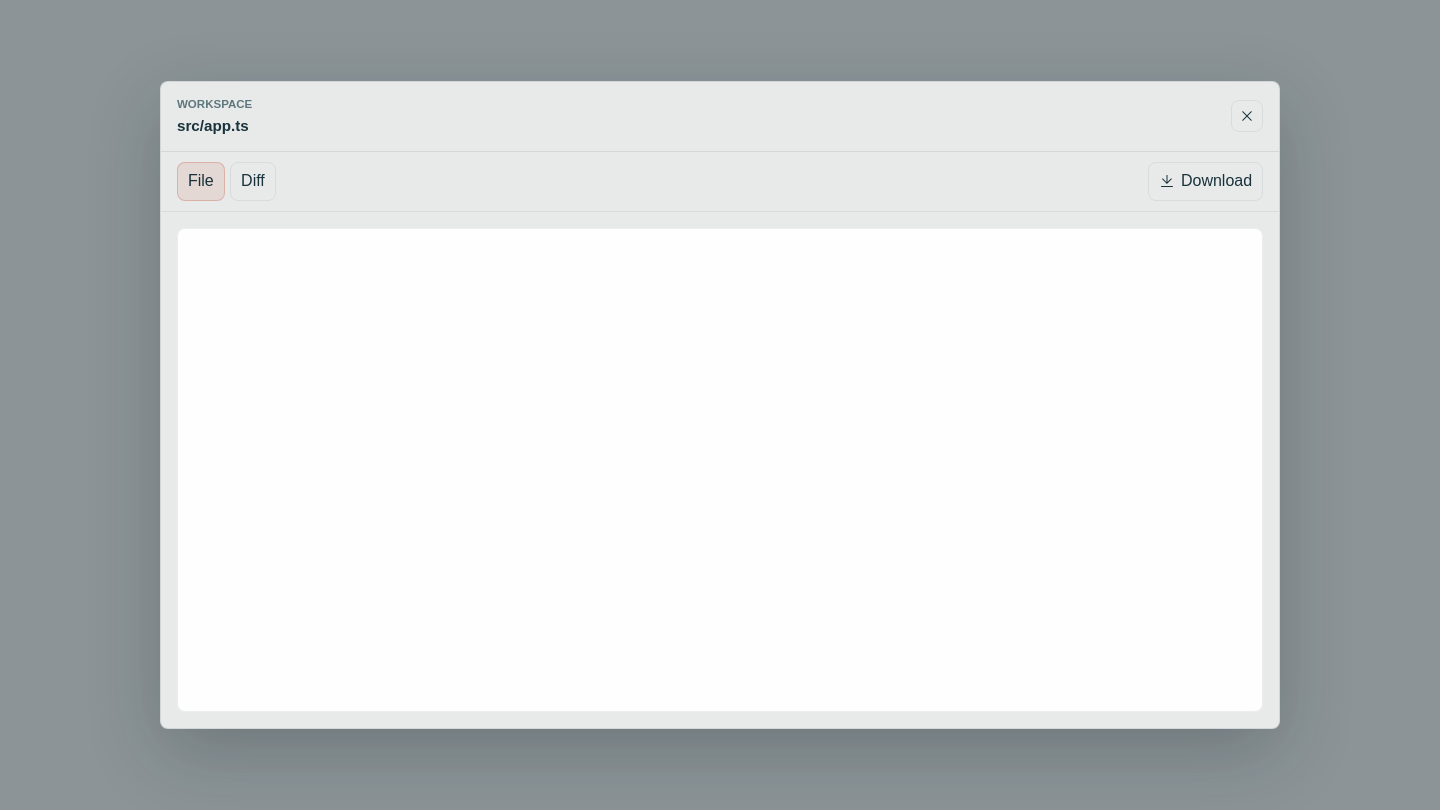
Scenario: WorkspaceFileDialog › disposes the mounted file editor when a binary diff replaces it
Click the button "Diff" at (253, 181), box [230, 162, 276, 200]
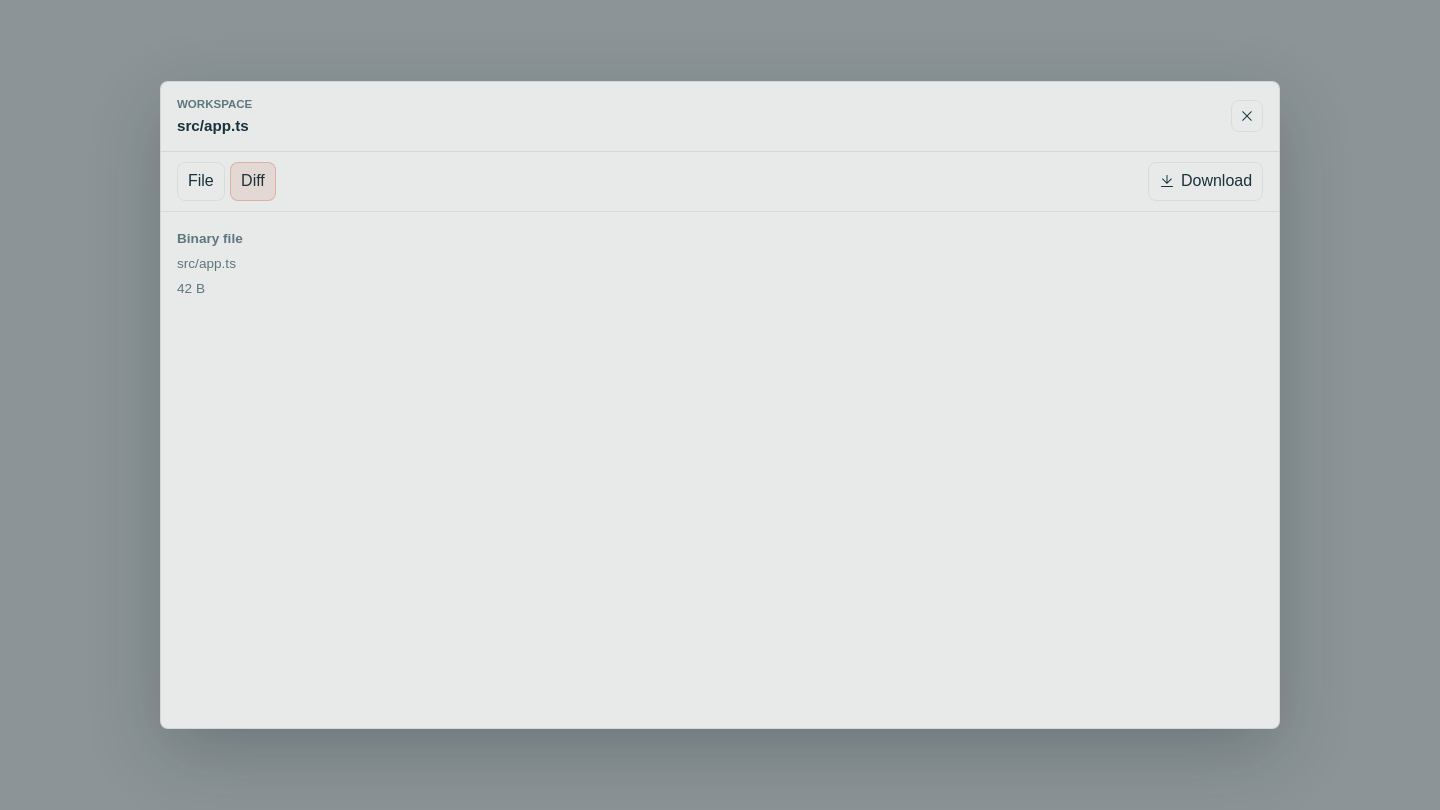
Now the text "Binary file" is shown, box [177, 228, 243, 249]
